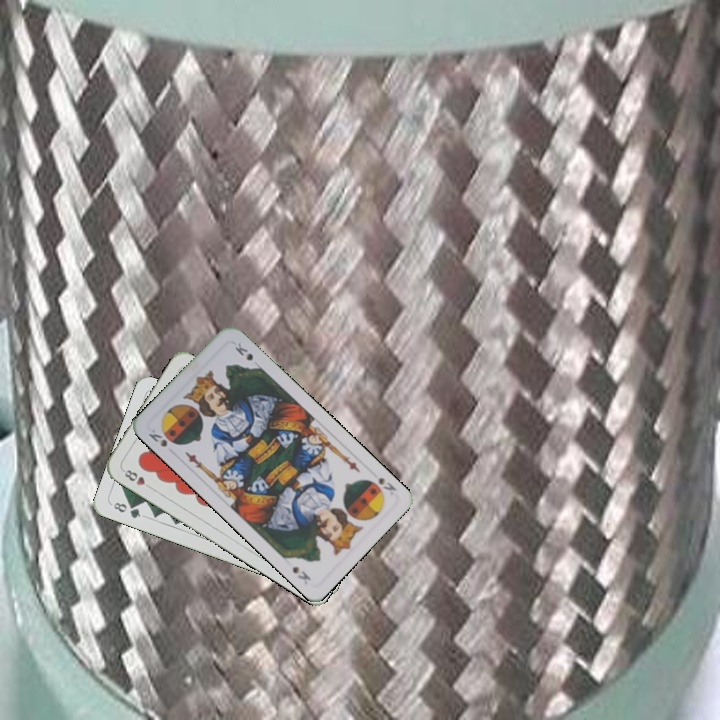G8: (108, 498, 143, 521)
H8: (119, 465, 155, 492)
SK: (144, 425, 180, 450), (374, 472, 399, 497)
